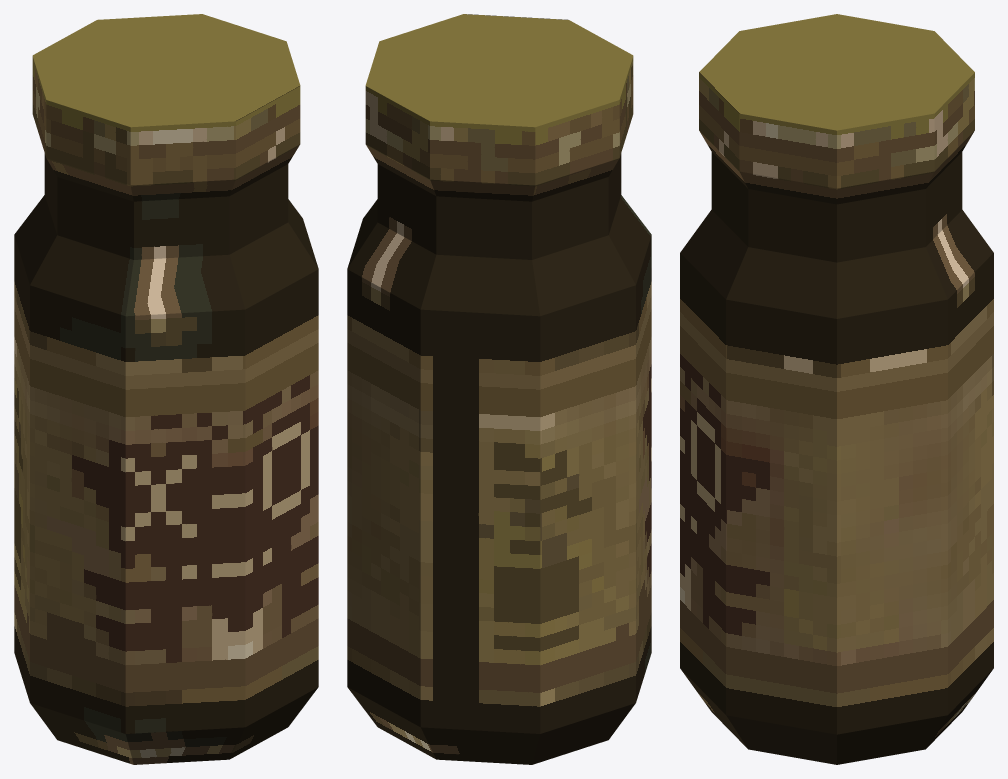
Rendered from HealthDrink.glb.
The picture shows the model from 3 angles, left to right: view 1: azimuth 30°, elevation 25°; view 2: azimuth 150°, elevation 25°; view 3: azimuth 270°, elevation 25°; orthographic projection.
Parts seen in each view (by area): view 1: Health Drink; view 2: Health Drink; view 3: Health Drink.
Boxes of the visible parts, x1,y1,x2,y2 form: Health Drink: [14, 14, 318, 764]; Health Drink: [347, 14, 651, 764]; Health Drink: [680, 14, 993, 764].
Bounding box in the file's own units: 0.0488 × 0.1097 × 0.0488.
1 material, 1 textured.
